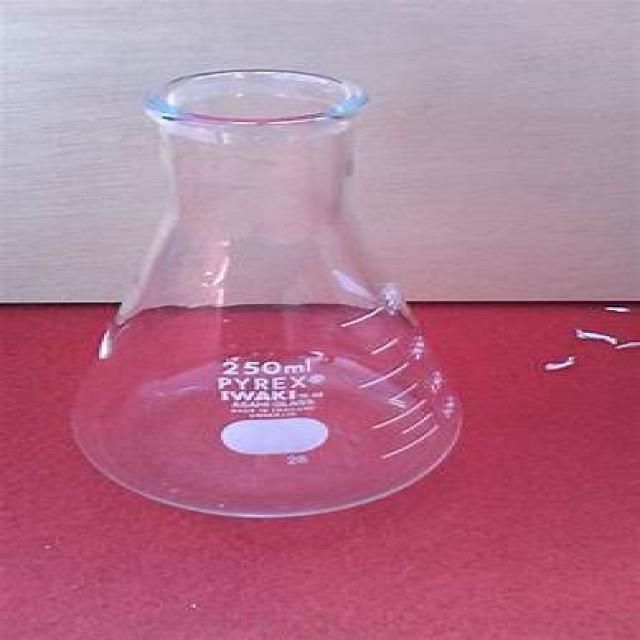Titrarion: (49, 76, 466, 523)
